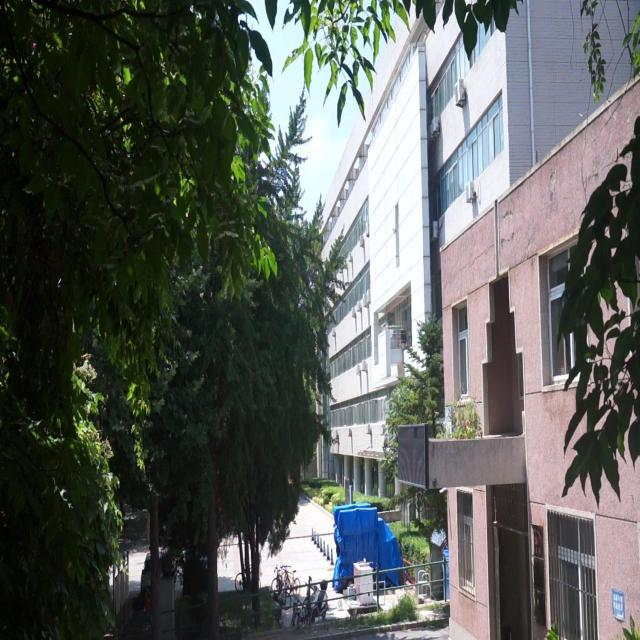UAV: (392, 228, 399, 234)
